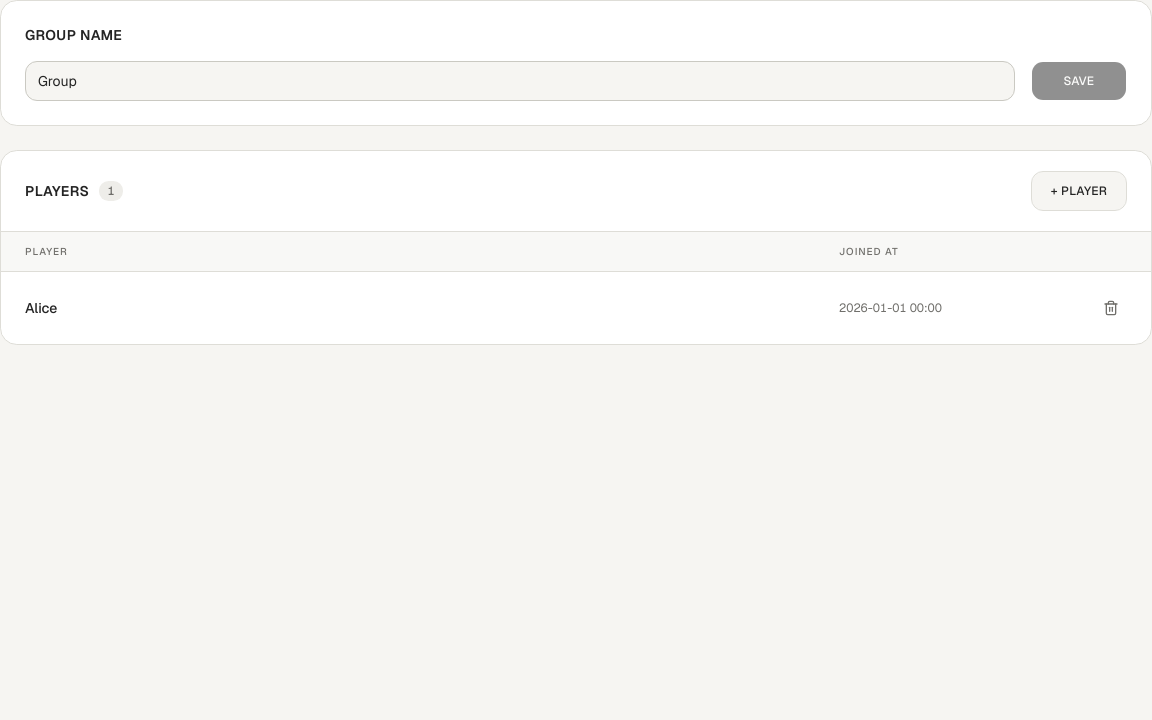
Test: retains successful joins when a later join fails and retries only remaining players
The width and height of the screenshot is (1152, 720).
Click the button "+ PLAYER" at (1079,191), box [1031, 171, 1127, 211]
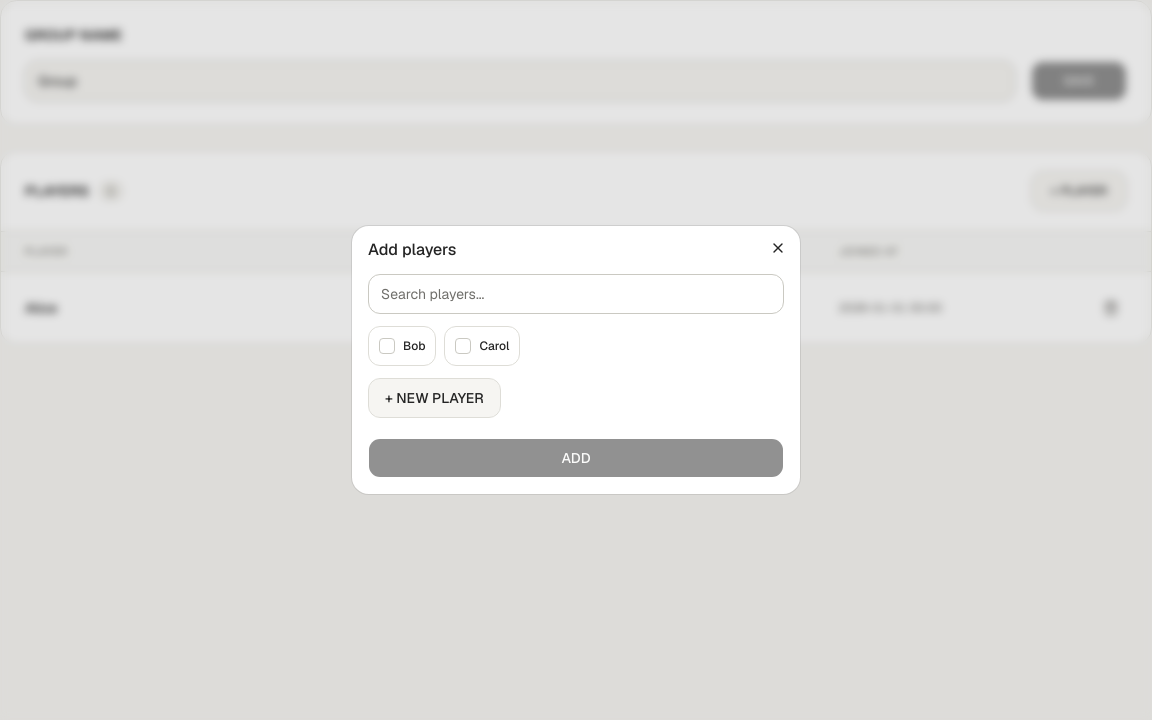
Click the checkbox named "Bob" next to "Bob" at (387,346), box [379, 338, 395, 354]
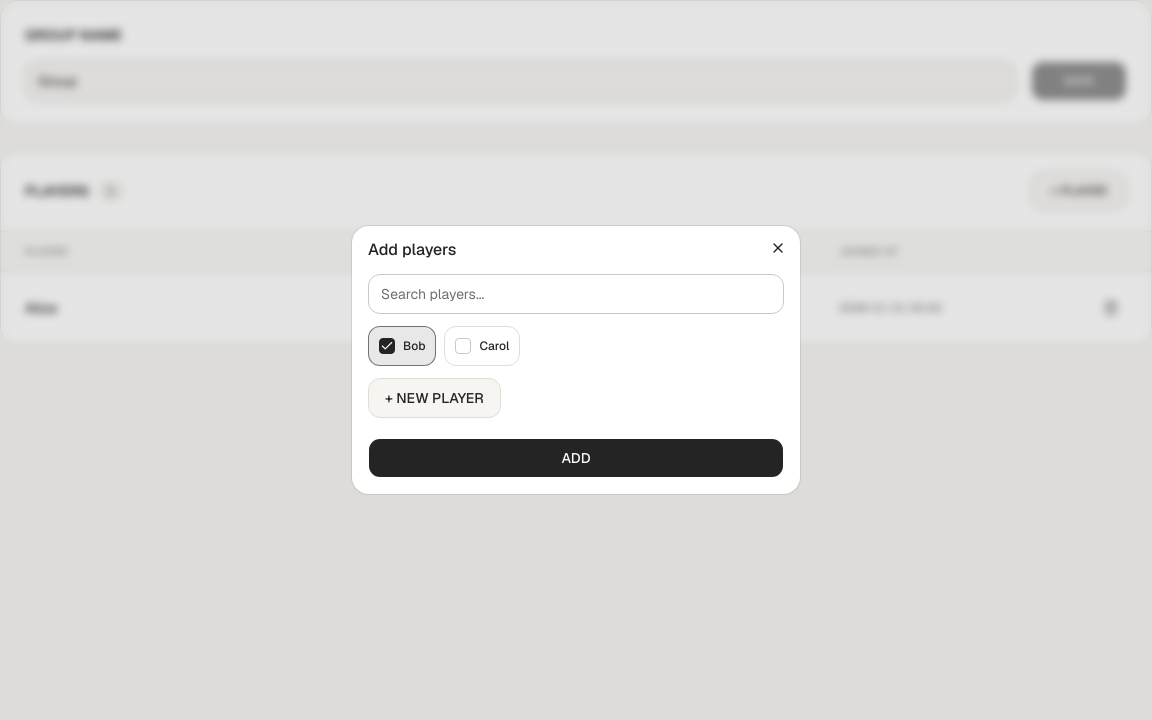
Click the checkbox named "Carol" next to "Carol" at (464,346), box [456, 338, 472, 354]
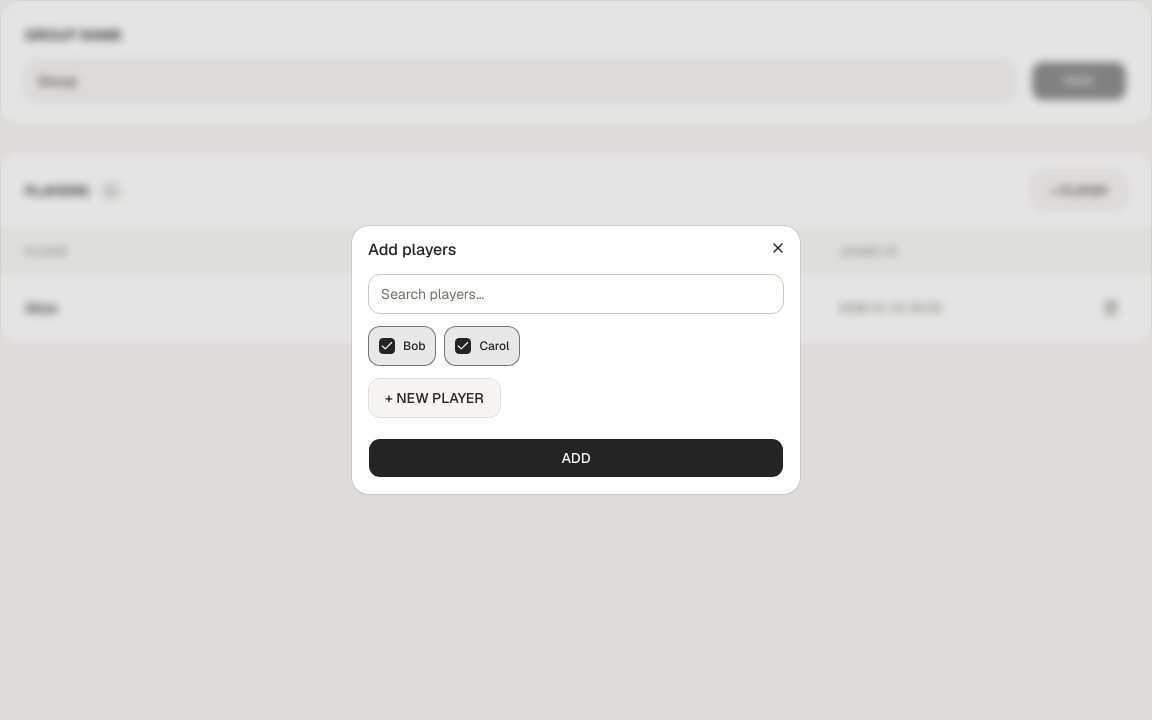
Click the button "ADD" at (576,458), box [368, 438, 784, 478]
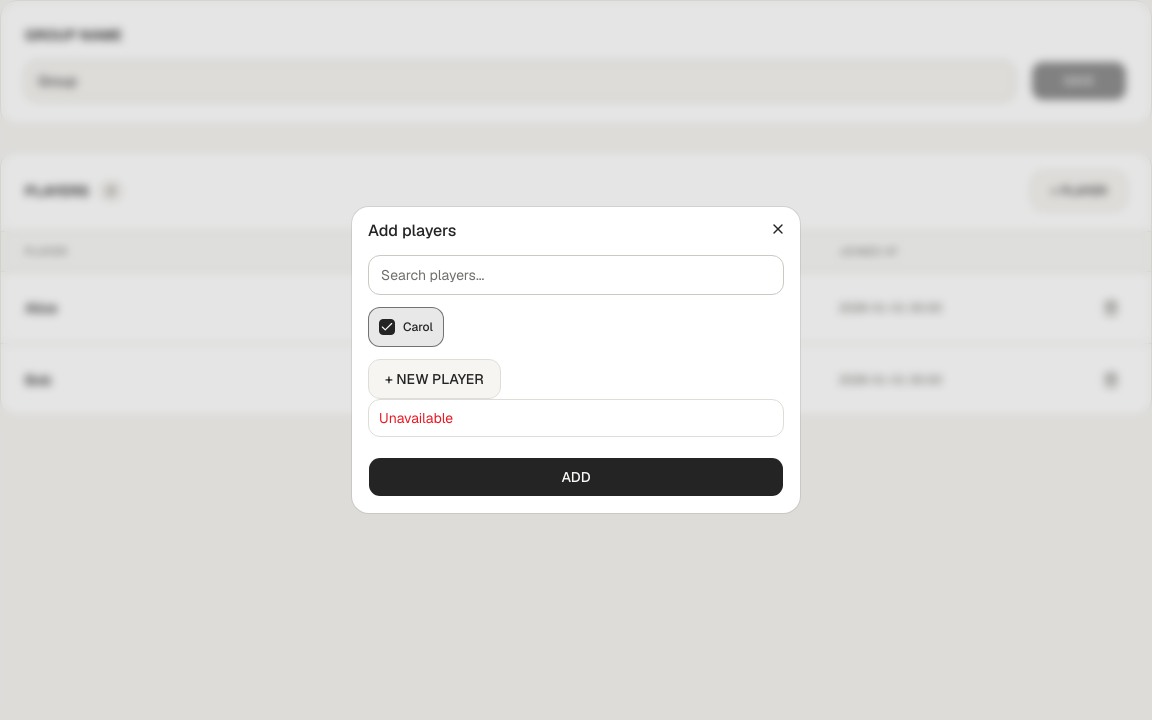
Now the text "Unavailable" is shown, box [379, 409, 453, 427]
Click the button "ADD" at (576,477), box [368, 457, 784, 497]
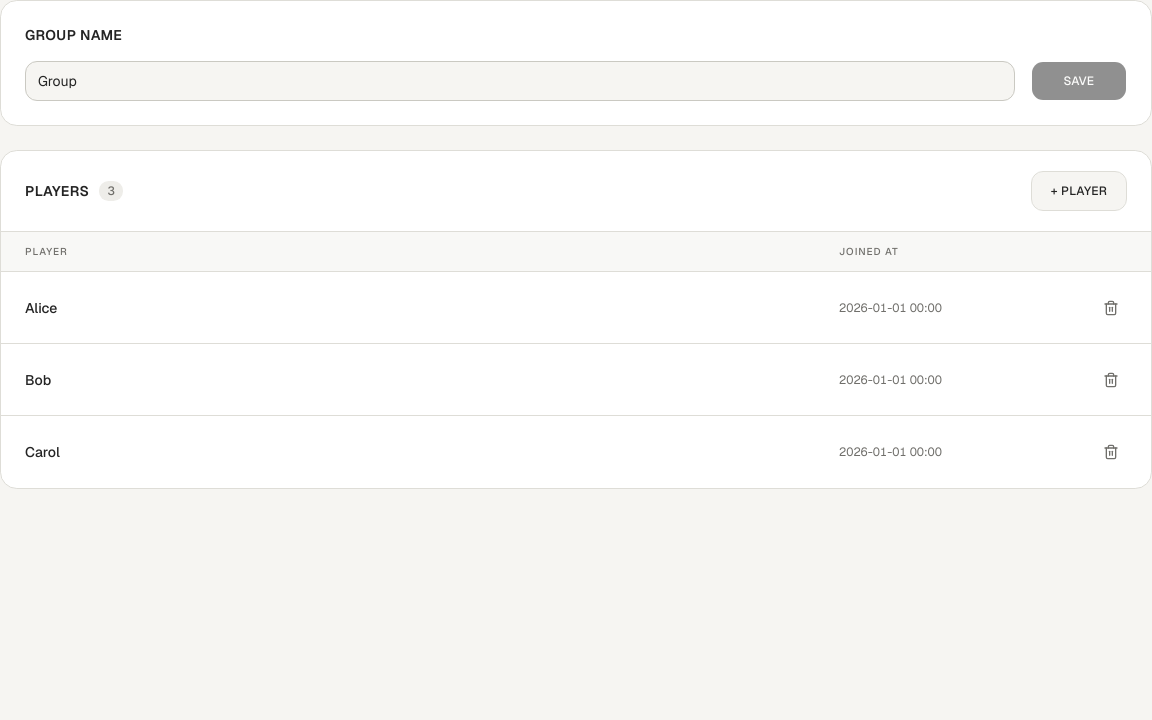
Now the dialog is gone
